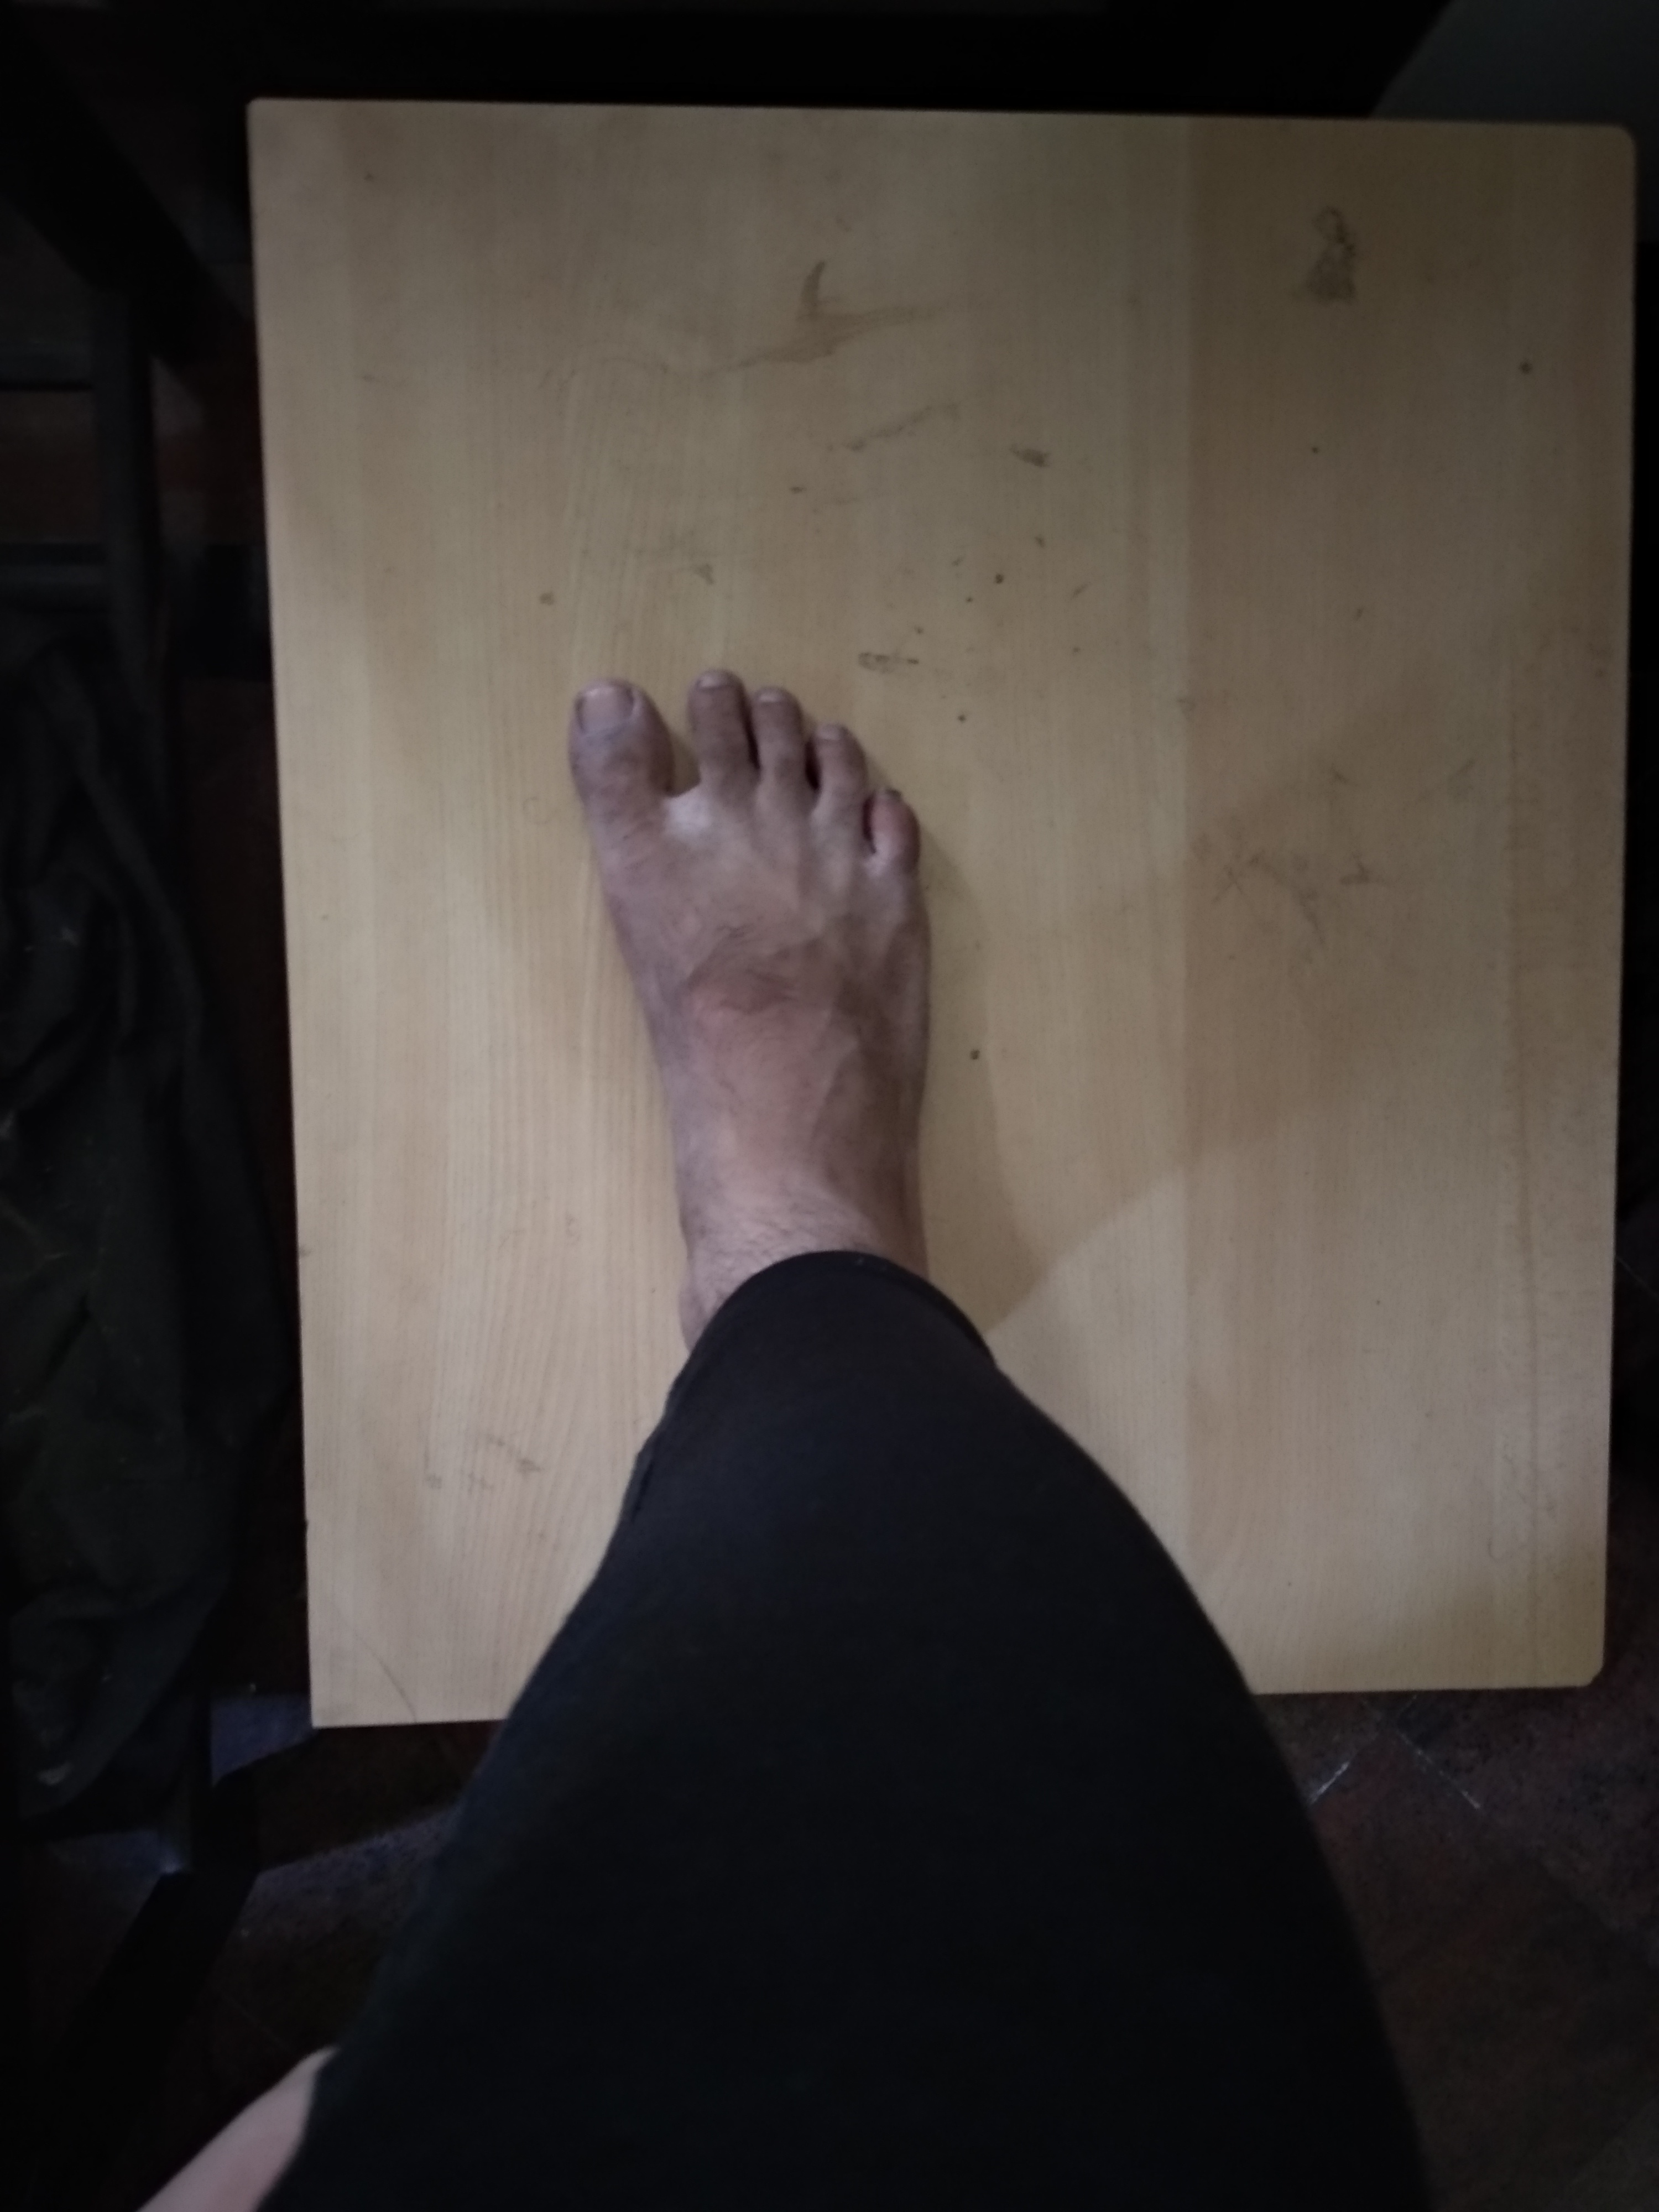feet: (518, 618, 948, 1449)
